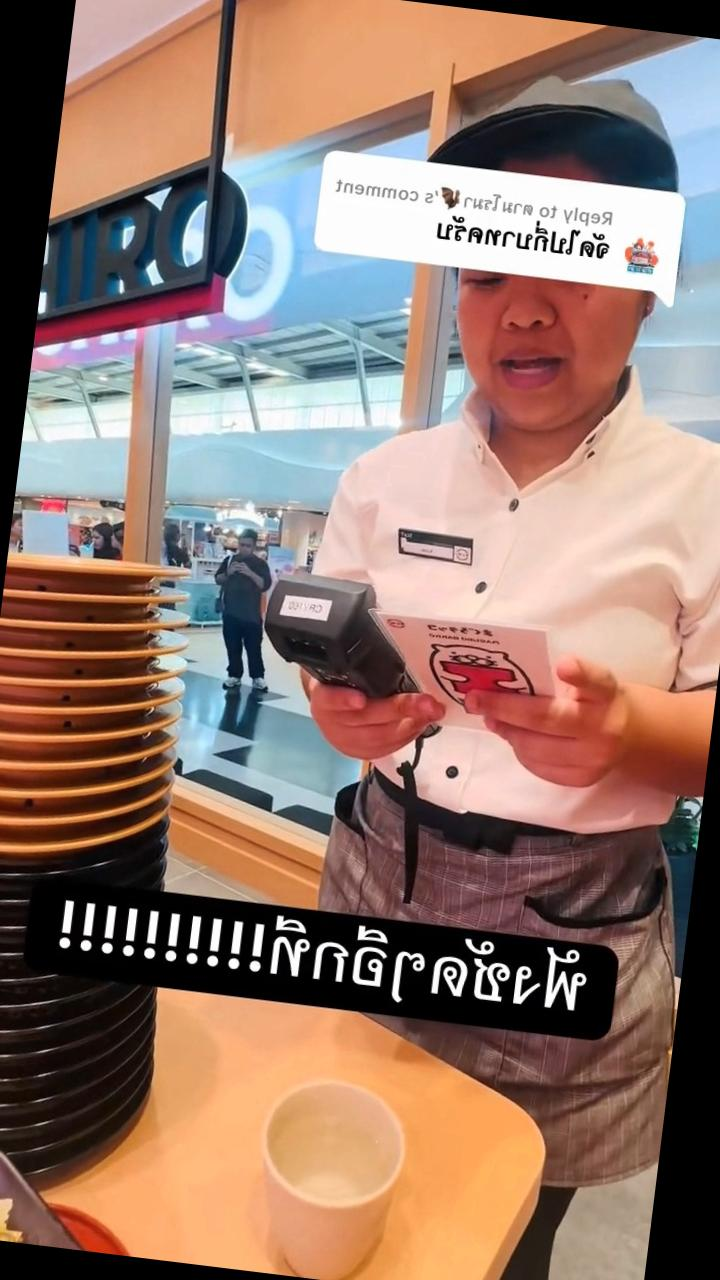Janback: (7, 1134, 93, 1180), (0, 852, 52, 894), (0, 994, 56, 1028), (0, 1021, 46, 1058), (0, 1113, 39, 1149), (0, 1046, 43, 1078), (0, 1069, 39, 1101), (0, 968, 41, 998), (0, 1093, 32, 1125), (0, 914, 28, 942), (0, 889, 26, 914), (0, 942, 21, 968)
Jangold: (6, 537, 198, 596), (2, 572, 194, 626), (0, 598, 174, 657), (0, 634, 153, 683), (0, 663, 133, 711), (0, 722, 117, 768), (0, 695, 122, 739), (0, 749, 105, 790), (0, 773, 96, 817), (0, 800, 88, 841), (0, 831, 74, 861)
